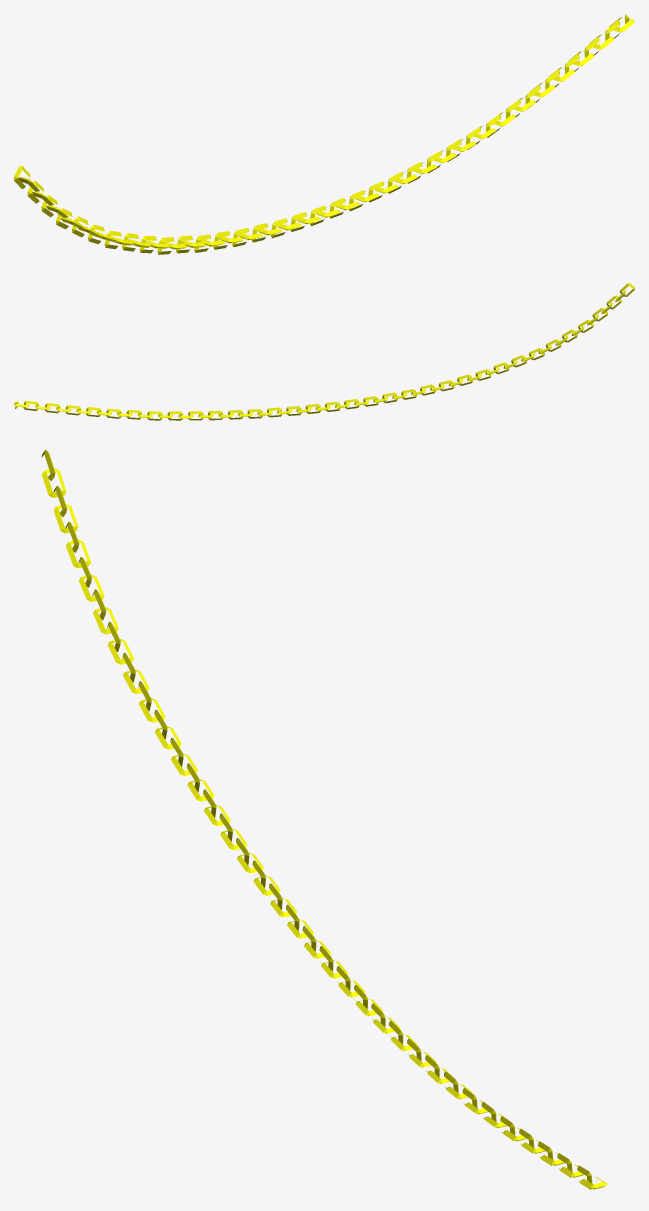
The model's file is flame_chain_002.glb.
3 renders of one model, top to bottom at view 1: azimuth 30°, elevation 25°; view 2: azimuth 150°, elevation 25°; view 3: azimuth 270°, elevation 25°, orthographic. The views are drawn at different scales.
Visible parts, largest first — view 1: flame_chain_002; view 2: flame_chain_002; view 3: flame_chain_002.
Boxes of the visible parts, x1,y1,x2,y2 form: flame_chain_002: (14, 14, 634, 254); flame_chain_002: (14, 283, 634, 420); flame_chain_002: (41, 449, 607, 1189).
Bounding box in the file's own units: 41.44 × 12.3 × 21.05.
Materials: 1 (1 with a texture image).
